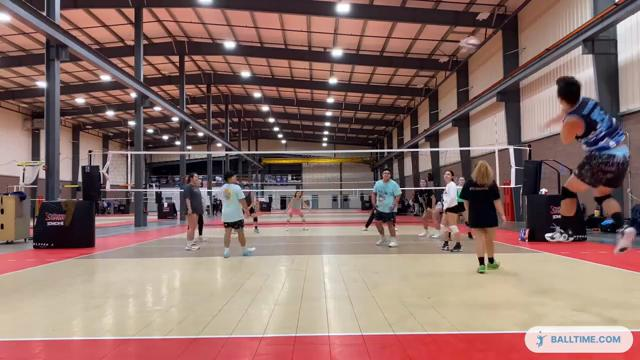battuta: (532, 73, 639, 257)
